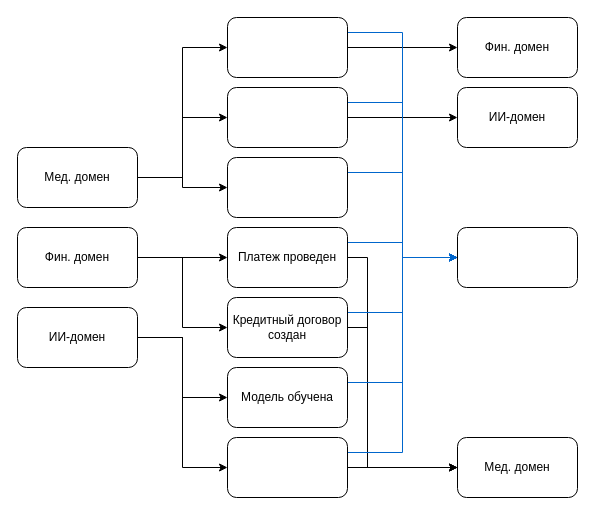
Image size: 595x515. Some labels were removed from this diagram. Each missing label, with the centre of its shape:
Анализ ИИ выполнен: (x=287, y=467)
Аналитический домен: (x=517, y=257)
Диагноз поставлен: (x=287, y=47)
Исследование завершено: (x=287, y=117)
Пациент зарегистрирован: (x=287, y=187)
